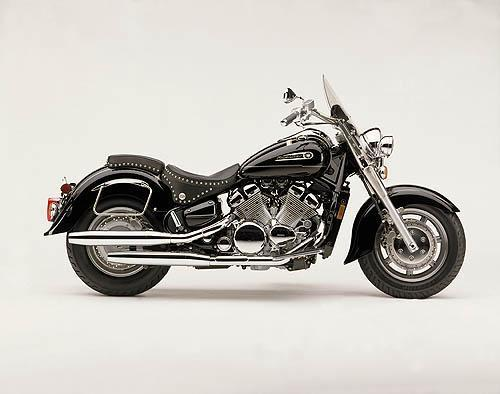motorcycle: (38, 67, 476, 314)
